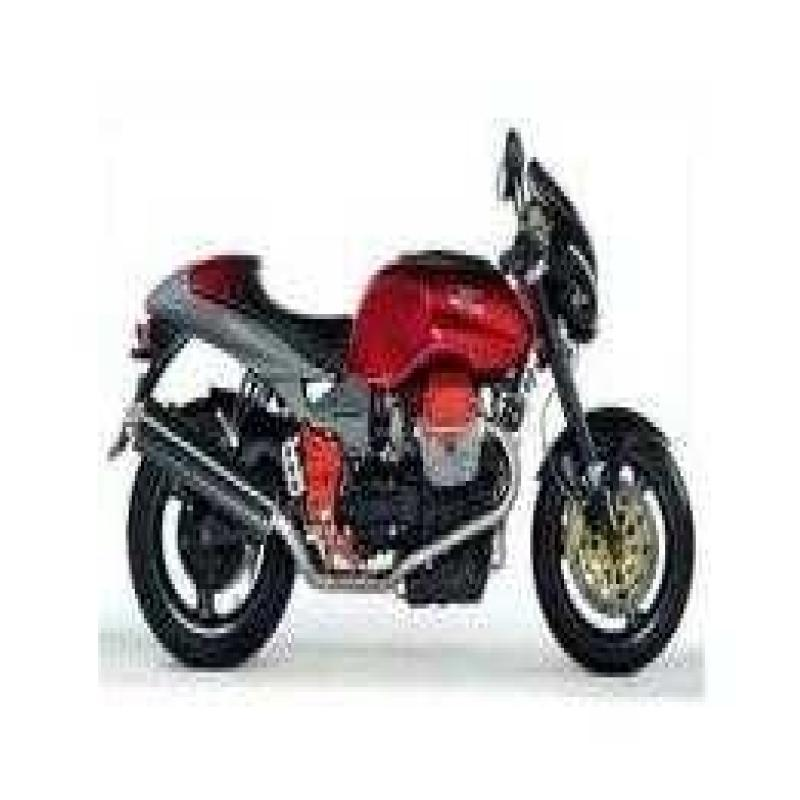bike: (95, 80, 704, 681)
